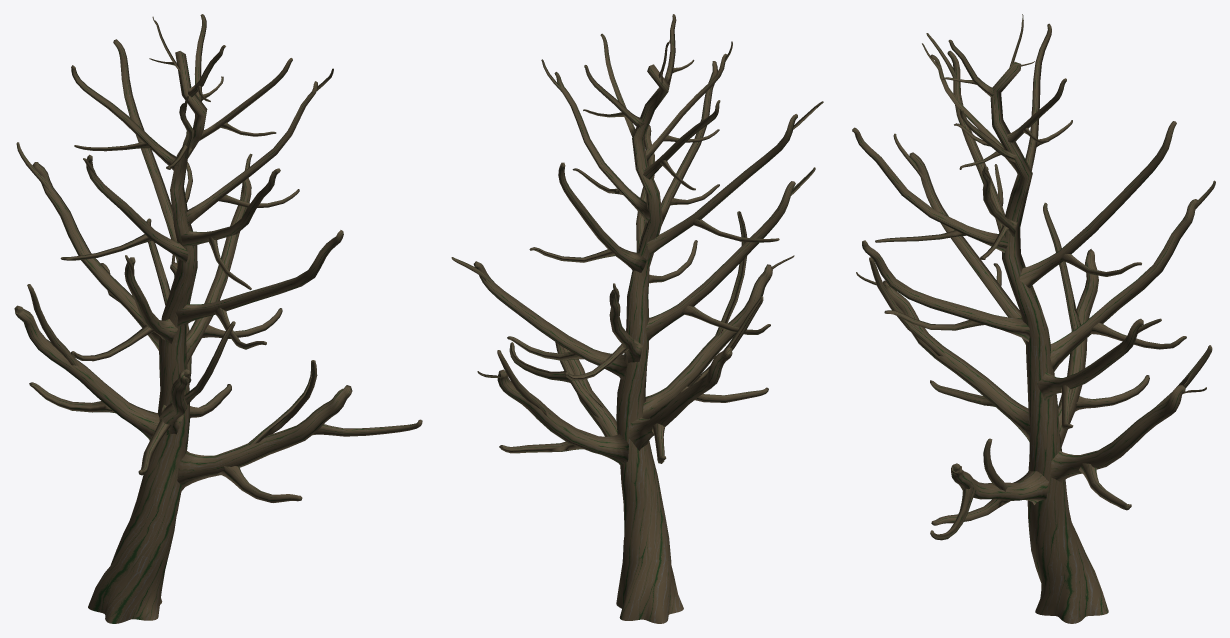
The model's file is DeadTree_2__go_village.glb.
3 views of the same model, side by side, from view 1: azimuth 30°, elevation 25°; view 2: azimuth 150°, elevation 25°; view 3: azimuth 270°, elevation 25° (orthographic). The views are drawn at different scales.
Visible parts, largest first — view 1: DeadTree_2; view 2: DeadTree_2; view 3: DeadTree_2.
Part boxes in pixels (bbox=[...]): DeadTree_2: bbox=[14, 14, 422, 623]; DeadTree_2: bbox=[451, 14, 823, 623]; DeadTree_2: bbox=[852, 14, 1215, 623].
Size of the model in its own units: 6.73 by 11.49 by 6.38.
1 material, 1 textured.
